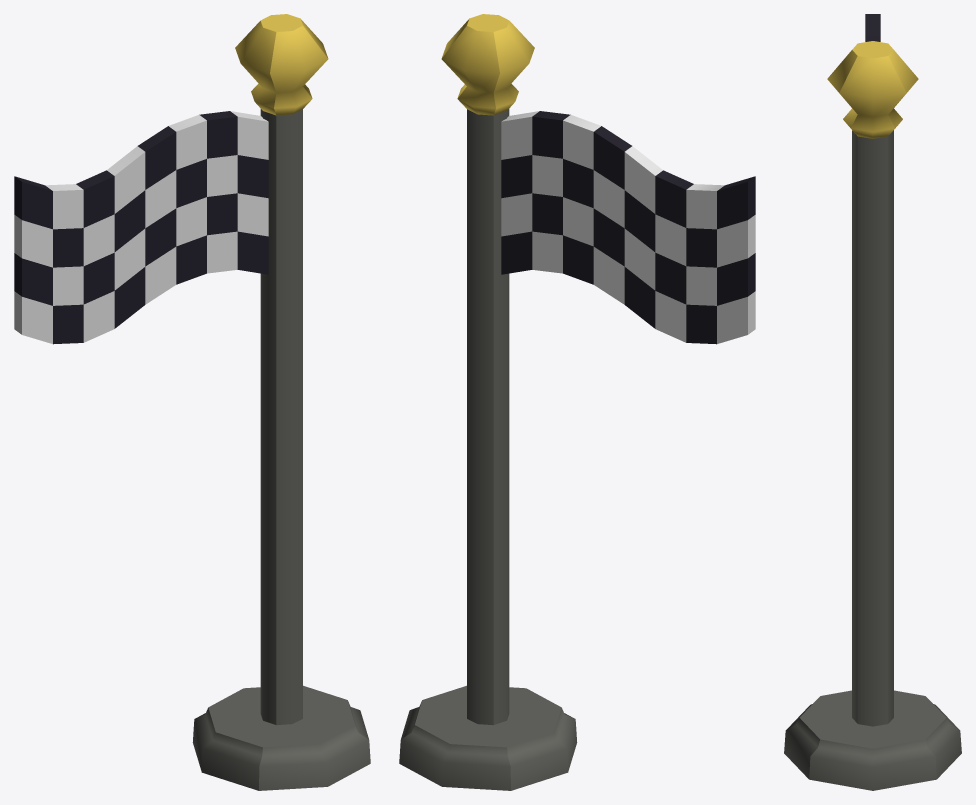
File: flag.fbx
3 renders of one model, left to right at view 1: azimuth 30°, elevation 25°; view 2: azimuth 150°, elevation 25°; view 3: azimuth 270°, elevation 25°, orthographic. The views are drawn at different scales.
Visible parts, largest first — view 1: pCube11, pCube10, pCube12; view 2: pCube11, pCube10, pCube12; view 3: pCube10, pCube12, pCube11.
Part boxes in pixels (bbox=[...]): pCube11: bbox=[14, 111, 268, 344]; pCube10: bbox=[192, 109, 370, 790]; pCube12: bbox=[235, 14, 328, 115]; pCube11: bbox=[501, 111, 755, 344]; pCube10: bbox=[399, 109, 577, 790]; pCube12: bbox=[441, 14, 534, 115]; pCube10: bbox=[784, 130, 961, 790]; pCube12: bbox=[827, 41, 918, 138]; pCube11: bbox=[865, 14, 880, 41].
Size of the model in its own units: 6.18 by 12.54 by 2.87.
